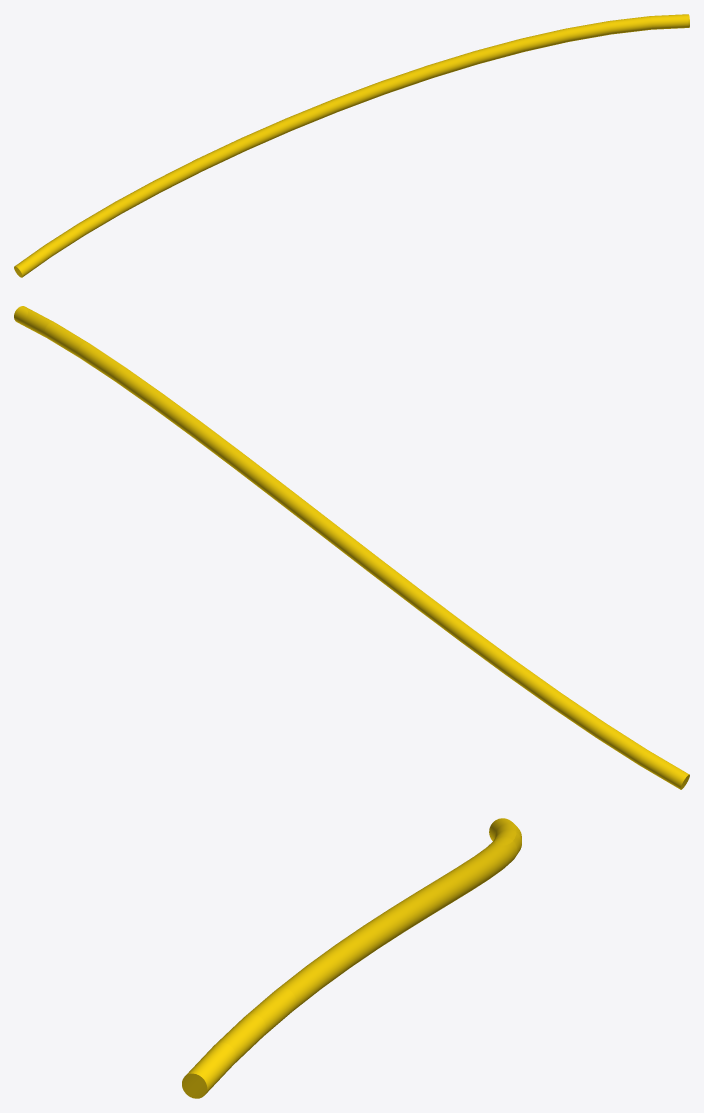
File: Event_420107950_track_54.fbx
3 views of the same model, one above another, from view 1: azimuth 30°, elevation 25°; view 2: azimuth 150°, elevation 25°; view 3: azimuth 270°, elevation 25° (orthographic). The views are drawn at different scales.
Parts seen in each view (by area): view 1: Model; view 2: Model; view 3: Model.
Part boxes in pixels (x1,y1,x2,y2): Model: (14,14,689,277); Model: (14,306,689,789); Model: (182,818,521,1098).
Size of the model in its own units: 2 by 0.5603 by 0.4938.
